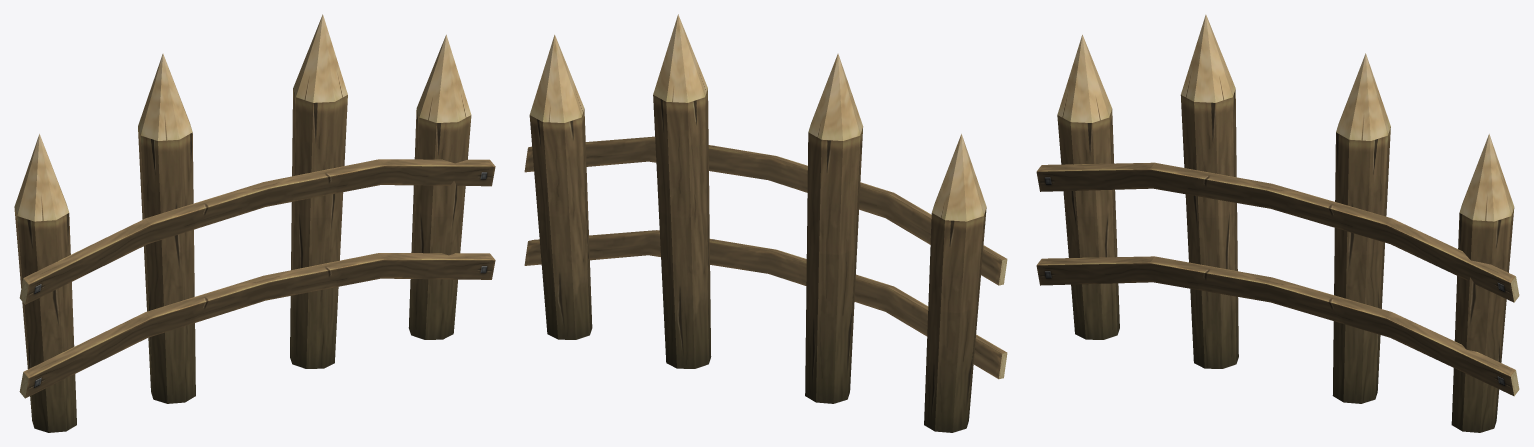
The model's file is wooden_fence_45.fbx.
3 views of the same model, side by side, from view 1: azimuth 30°, elevation 25°; view 2: azimuth 150°, elevation 25°; view 3: azimuth 330°, elevation 25° (orthographic).
Visible parts, largest first — view 1: wooden_fence_45:Mesh; view 2: wooden_fence_45:Mesh; view 3: wooden_fence_45:Mesh.
Boxes of the visible parts, <box> form: wooden_fence_45:Mesh: <box>14,14,495,432</box>; wooden_fence_45:Mesh: <box>524,14,1007,432</box>; wooden_fence_45:Mesh: <box>1036,14,1519,432</box>.
Size of the model in its own units: 7.25 by 5.07 by 0.9755.
